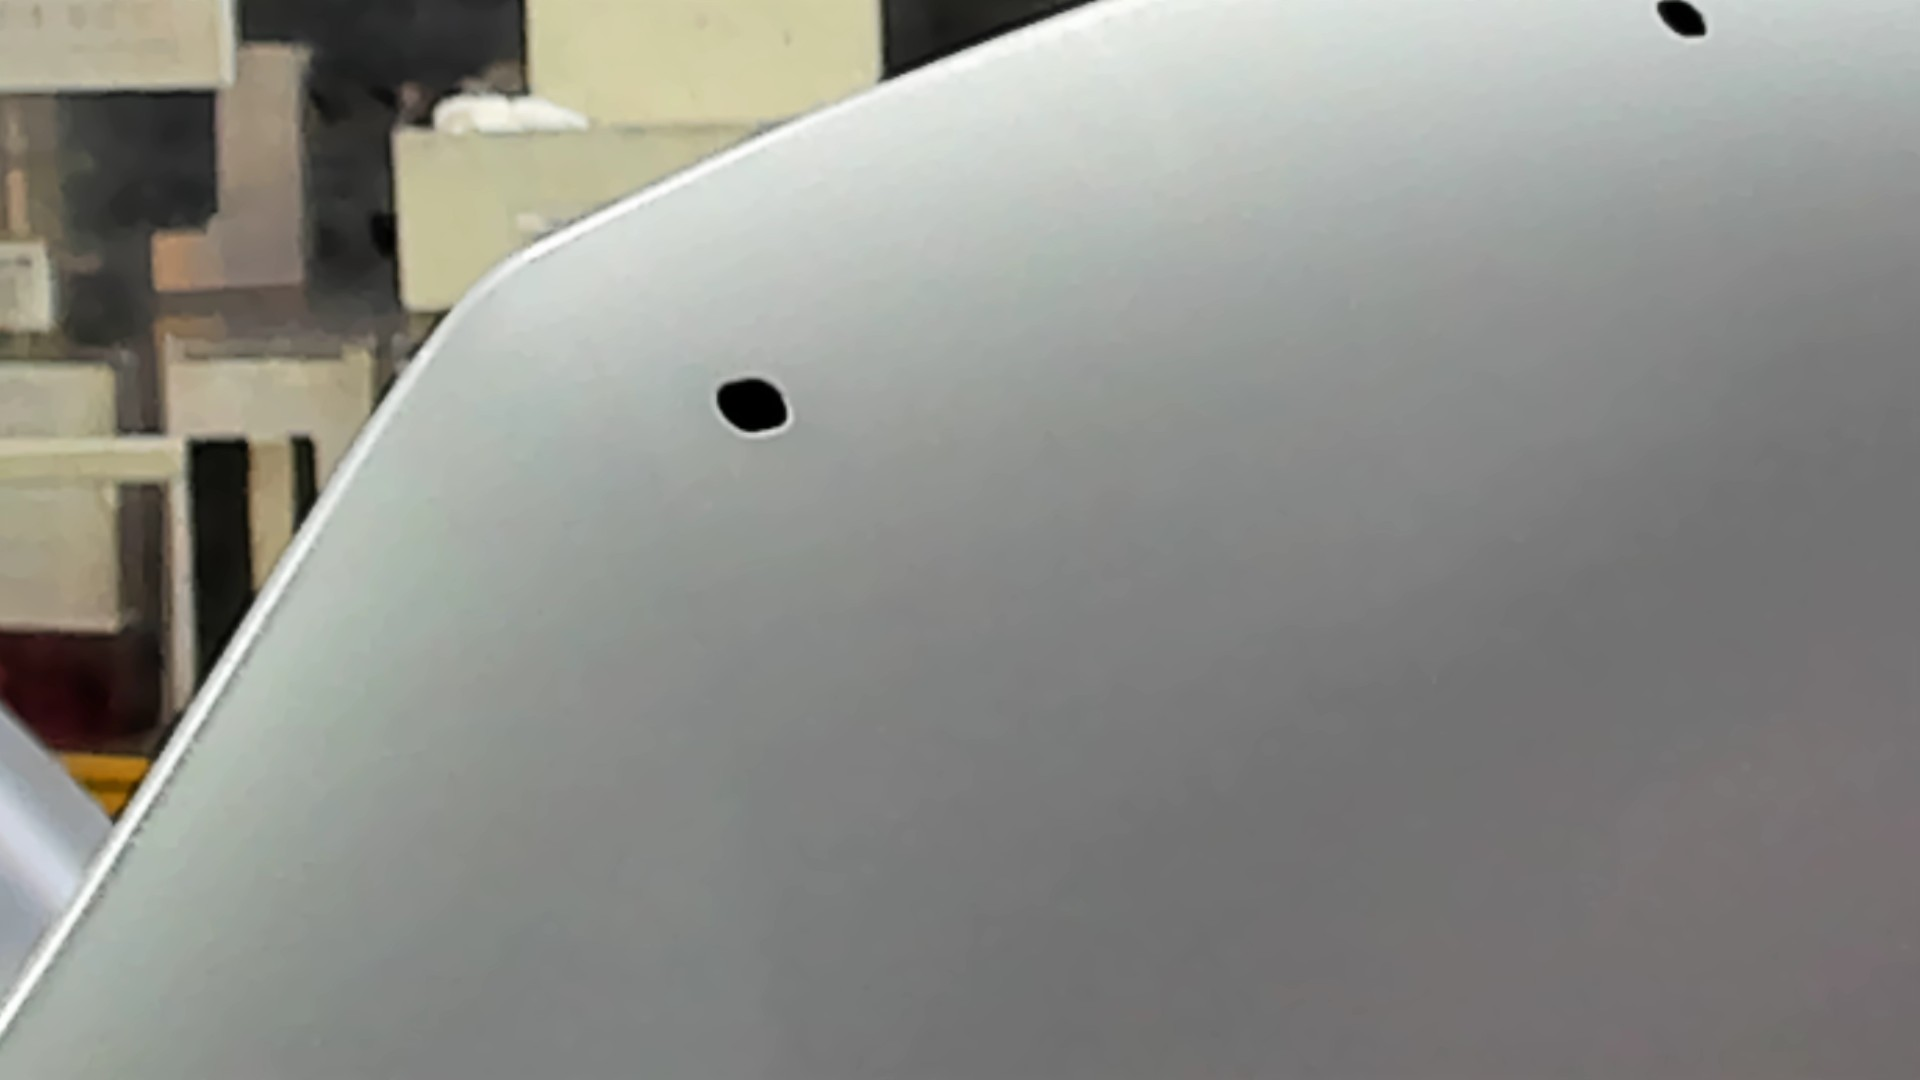amorfo: (705, 375, 798, 436), (1648, 1, 1716, 47)
